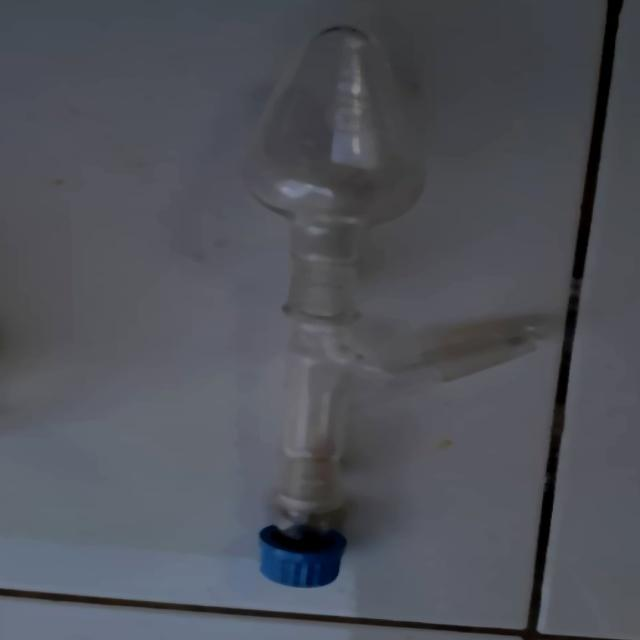Distillation: (144, 2, 576, 614)
